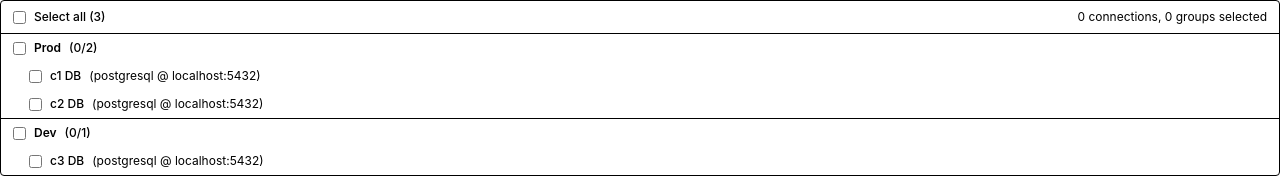
Scenario: SelectionTree › scenario single-group: group header selects only its children
This screenshot has width=1280, height=193.
Click the checkbox named "group prod": (20, 48) [13,42,26,54]
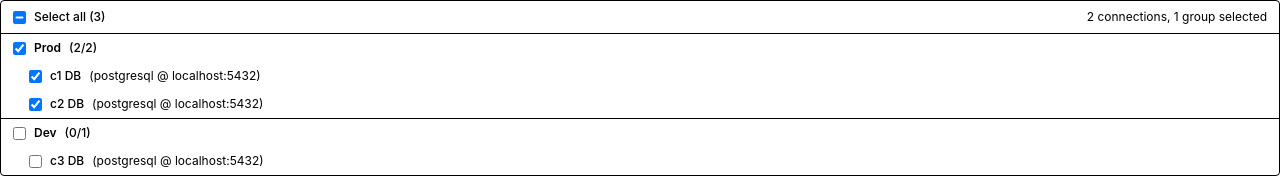
Expected: the checkbox named "group dev" is not checked, [13,126,26,140]
Now the checkbox named "group prod" is checked, box [13,42,26,54]
Now the text "2 connections, 1 group selected" is shown, box [1087,9,1267,25]
